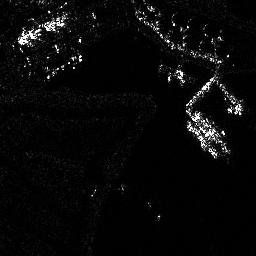ship: (186, 120, 220, 159)
